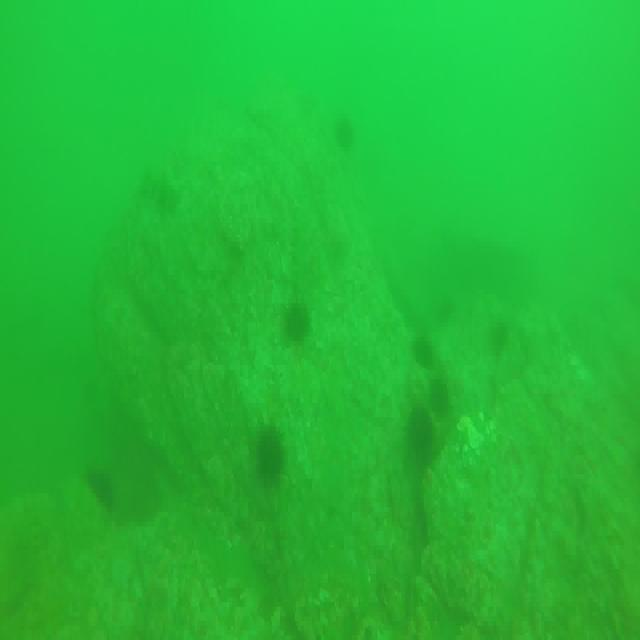echinus: (81, 468, 116, 520), (252, 426, 283, 481), (283, 296, 313, 346), (411, 406, 435, 467), (409, 332, 434, 382), (428, 380, 450, 429), (490, 321, 515, 362), (333, 112, 354, 156)
